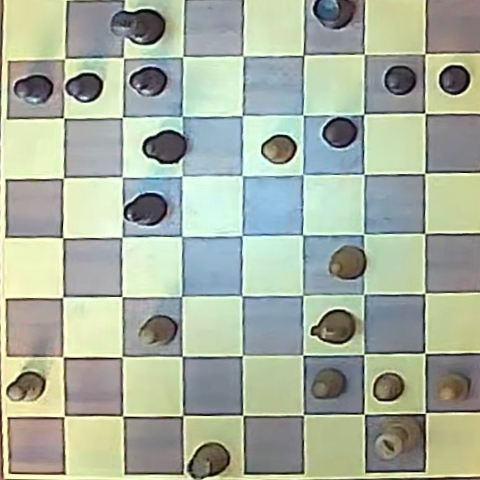black-bishop: (141, 130, 186, 165), (124, 192, 167, 226)
black-king: (112, 8, 165, 46)
black-pawn: (14, 74, 53, 105), (65, 72, 103, 103), (129, 66, 167, 96), (322, 117, 358, 148), (438, 64, 471, 95), (384, 65, 417, 95)
black-rook: (312, 0, 355, 29)
white-bishop: (329, 245, 367, 280)
white-king: (374, 417, 420, 461)
white-knight: (311, 310, 355, 345)
white-pawn: (6, 371, 46, 402), (138, 315, 176, 347), (261, 134, 297, 164), (311, 368, 345, 399), (373, 372, 405, 402), (436, 374, 468, 402)
white-rook: (187, 443, 229, 479)
